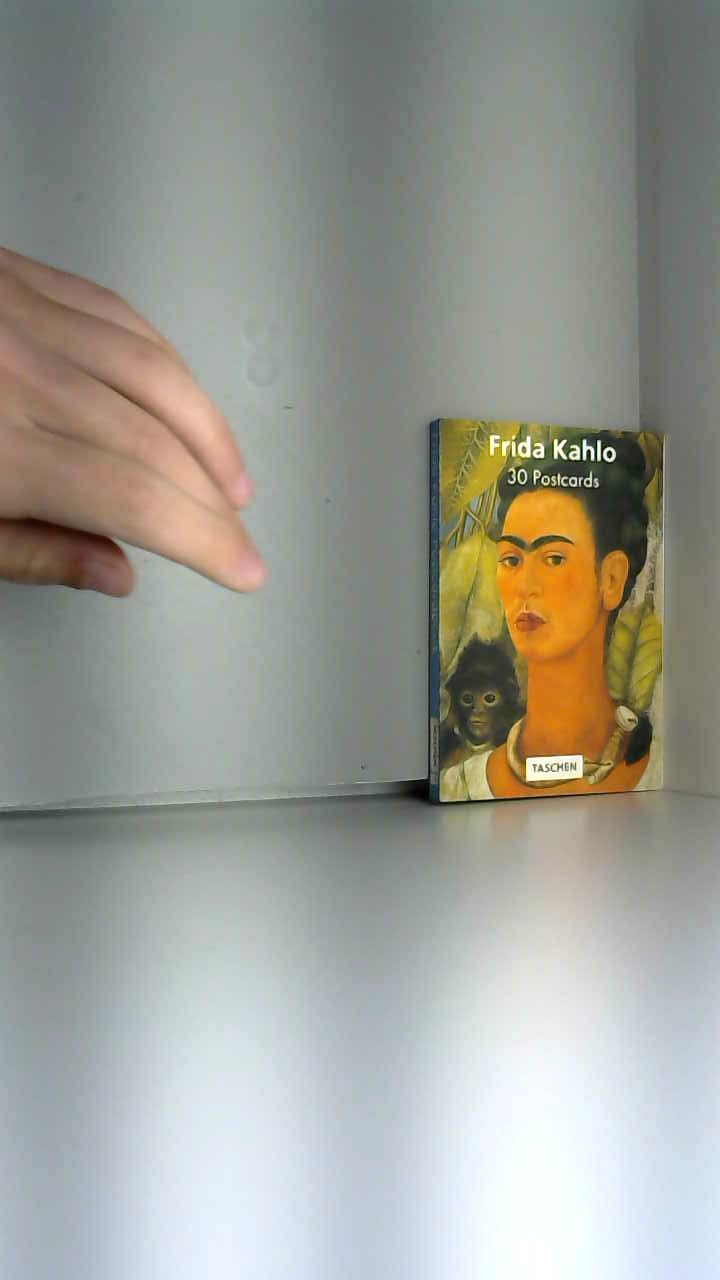book: (394, 372, 699, 847)
